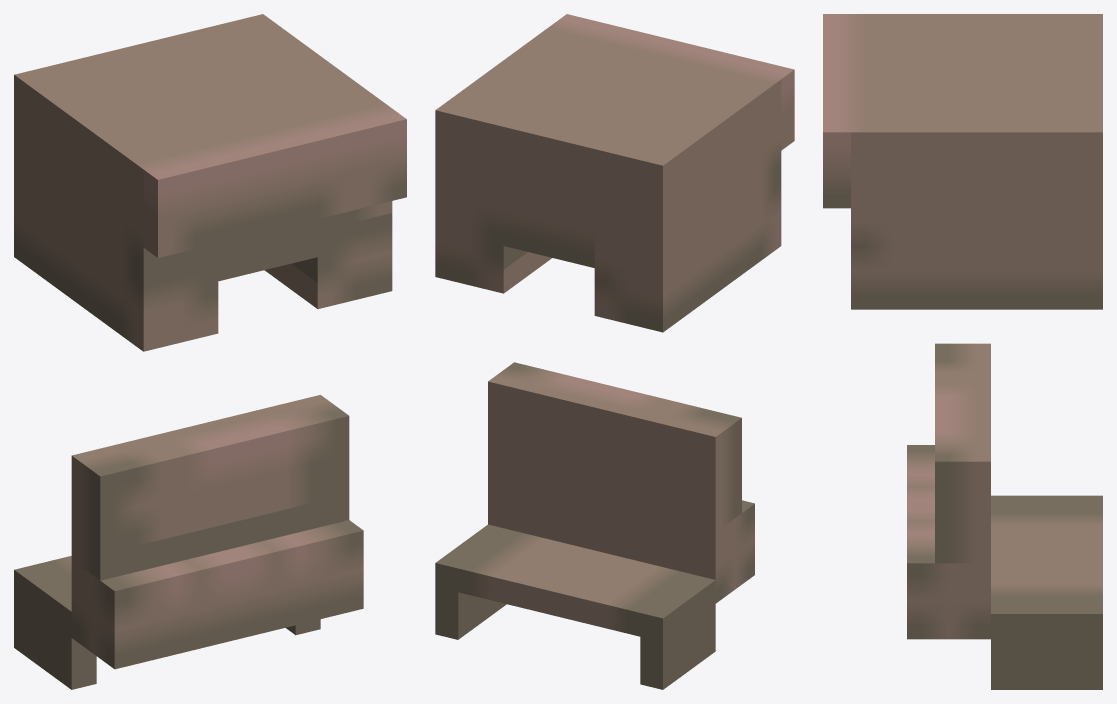
The model's file is Barrier-0.fbx.
3 renders of one model, left to right at view 1: azimuth 30°, elevation 25°; view 2: azimuth 150°, elevation 25°; view 3: azimuth 270°, elevation 25°, orthographic. The views are drawn at different scales.
Parts seen in each view (by area): view 1: Barrier-0; view 2: Barrier-0; view 3: Barrier-0.
Boxes of the visible parts, bbox=[...] form: Barrier-0: bbox=[14, 14, 406, 689]; Barrier-0: bbox=[435, 14, 794, 689]; Barrier-0: bbox=[823, 14, 1102, 689].
Size of the model in its own units: 50 by 110 by 50.
